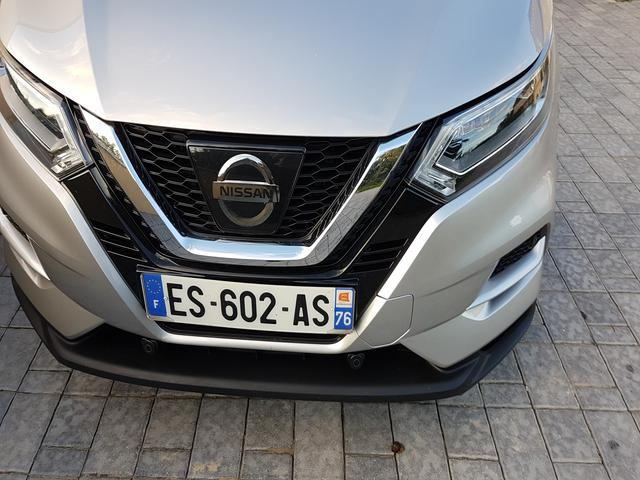Quashquai: (124, 243, 381, 358)
